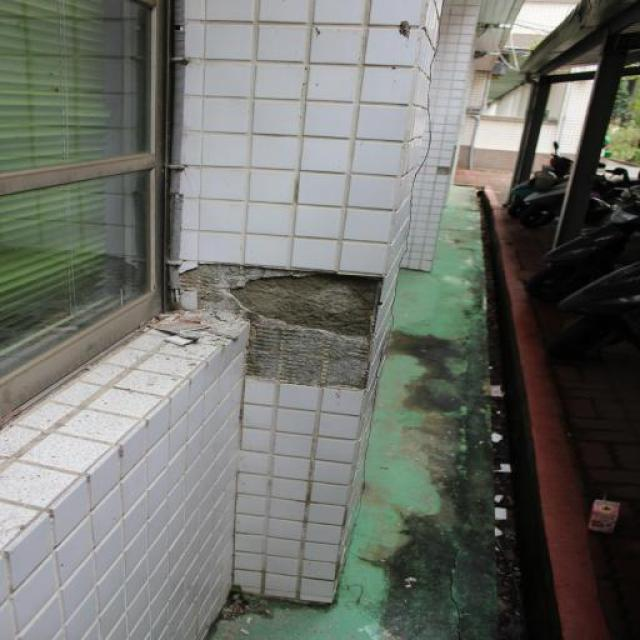D10: (180, 264, 382, 389)
